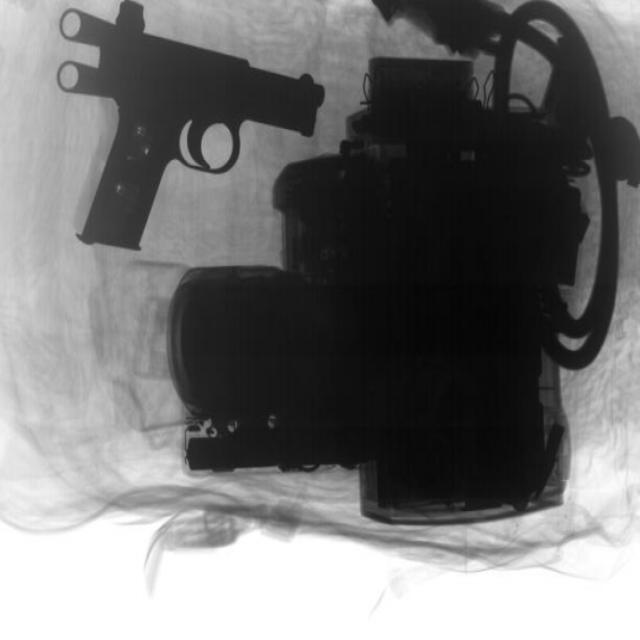GUN: (15, 54, 357, 288)
